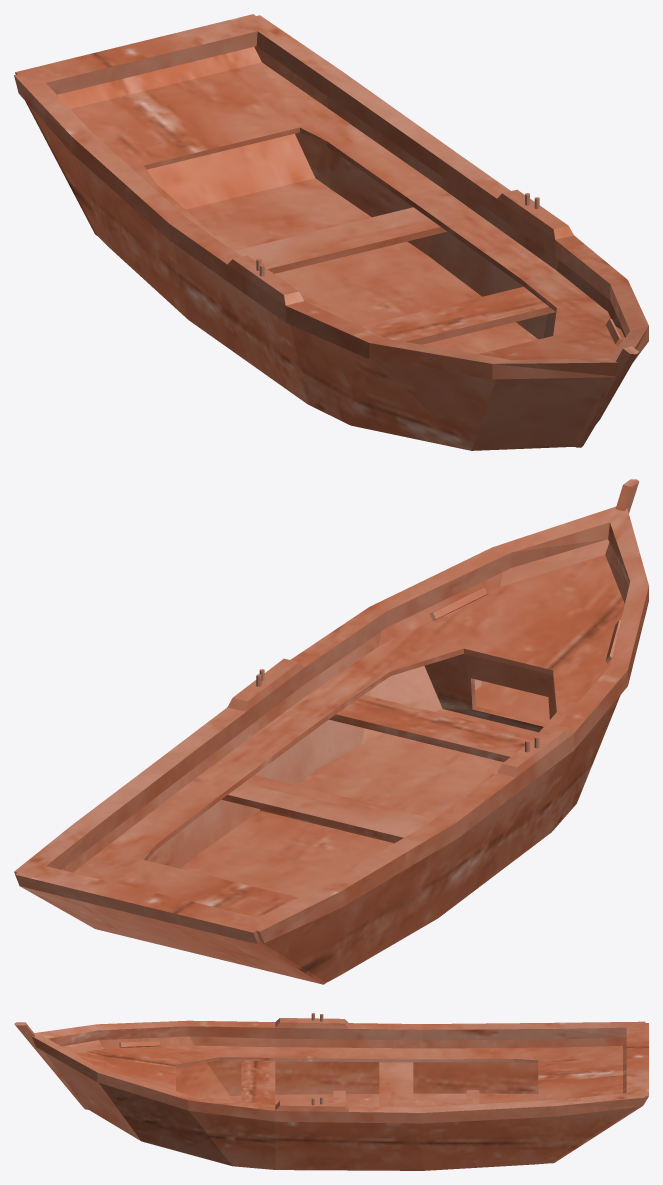
File: boat6.dae
3 renders of one model, top to bottom at view 1: azimuth 30°, elevation 25°; view 2: azimuth 150°, elevation 25°; view 3: azimuth 270°, elevation 25°, orthographic. The views are drawn at different scales.
Parts seen in each view (by area): view 1: boat; view 2: boat; view 3: boat.
Part boxes in pixels (box(x1,y1,x2,y2)): boat: box(14, 14, 648, 450); boat: box(14, 479, 648, 984); boat: box(14, 1013, 648, 1170).
Size of the model in its own units: 3.28 by 9.89 by 1.87.
1 material, 1 textured.
